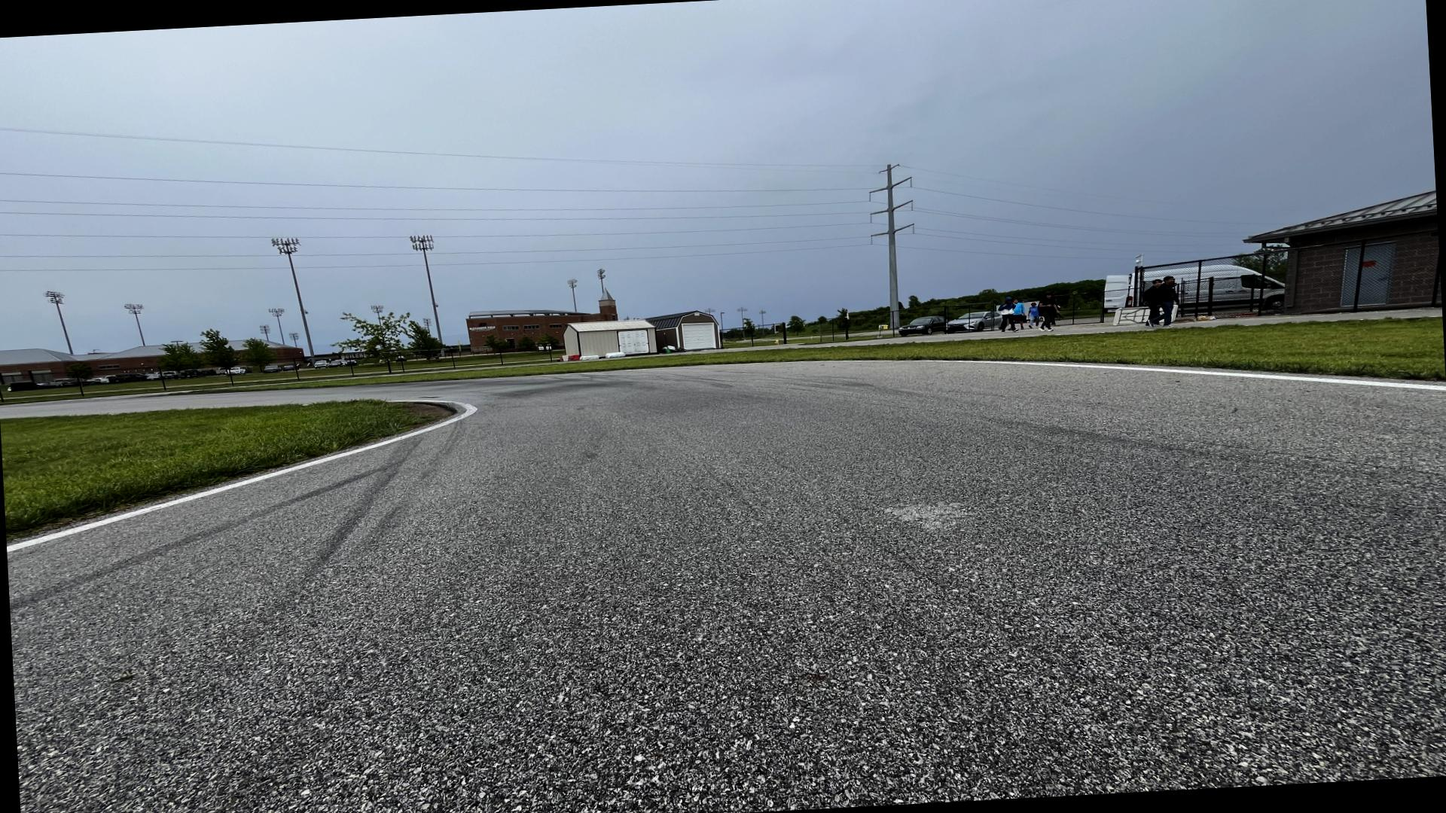white-line: (7, 400, 478, 553), (566, 360, 1445, 391)
